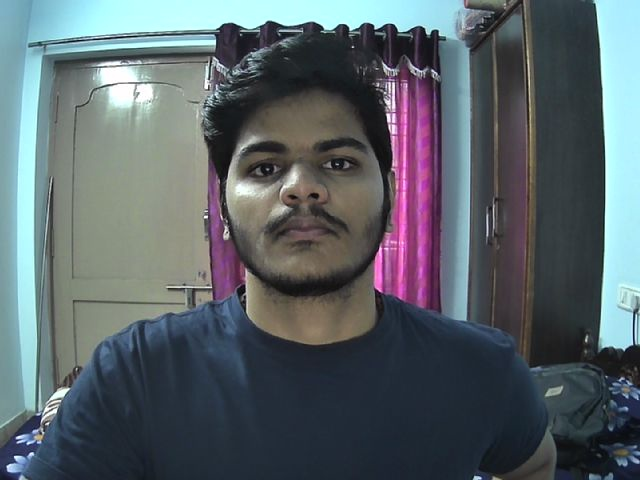NoMask: (225, 180, 391, 297)
